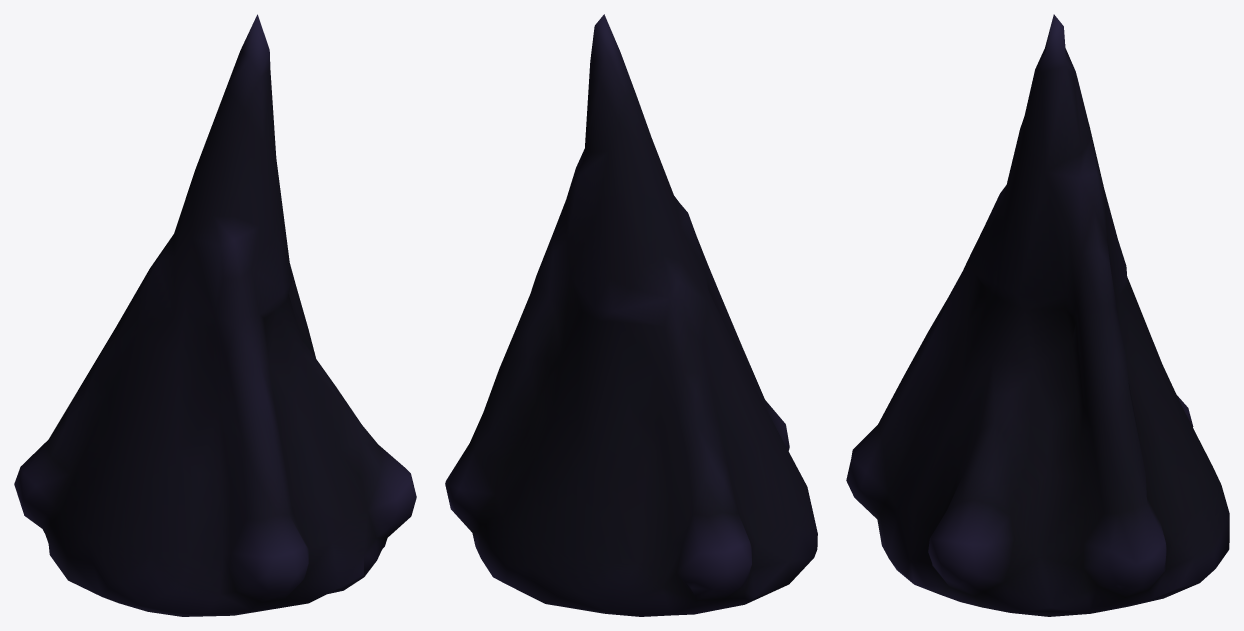
Rendered from spike.glb.
3 views of the same model, side by side, from view 1: azimuth 30°, elevation 25°; view 2: azimuth 150°, elevation 25°; view 3: azimuth 270°, elevation 25° (orthographic). The views are drawn at different scales.
Parts seen in each view (by area): view 1: Goo; view 2: Goo; view 3: Goo.
Boxes of the visible parts, x1,y1,x2,y2 form: Goo: (14, 14, 416, 616); Goo: (445, 14, 817, 616); Goo: (846, 14, 1229, 616).
Bounding box in the file's own units: 0.2619 × 0.4254 × 0.2675.
